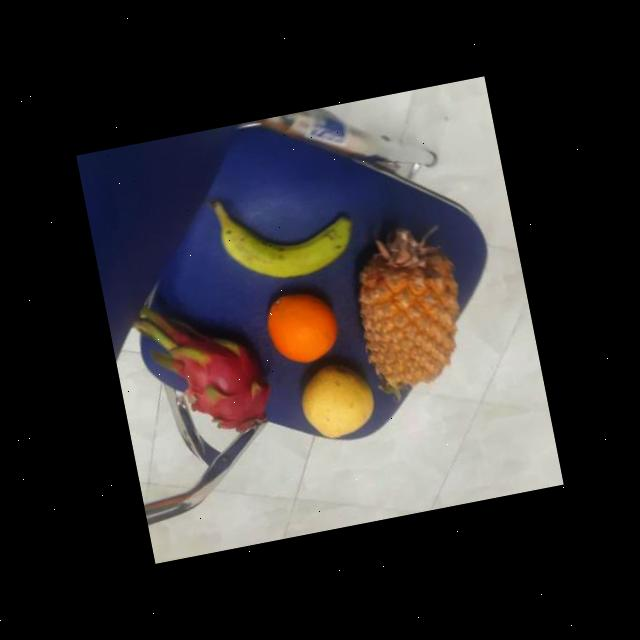banana: (210, 189, 358, 292)
orange: (260, 284, 344, 368)
pear: (291, 358, 381, 444)
pineapple: (341, 222, 476, 400)
pitaya: (174, 331, 278, 443)
